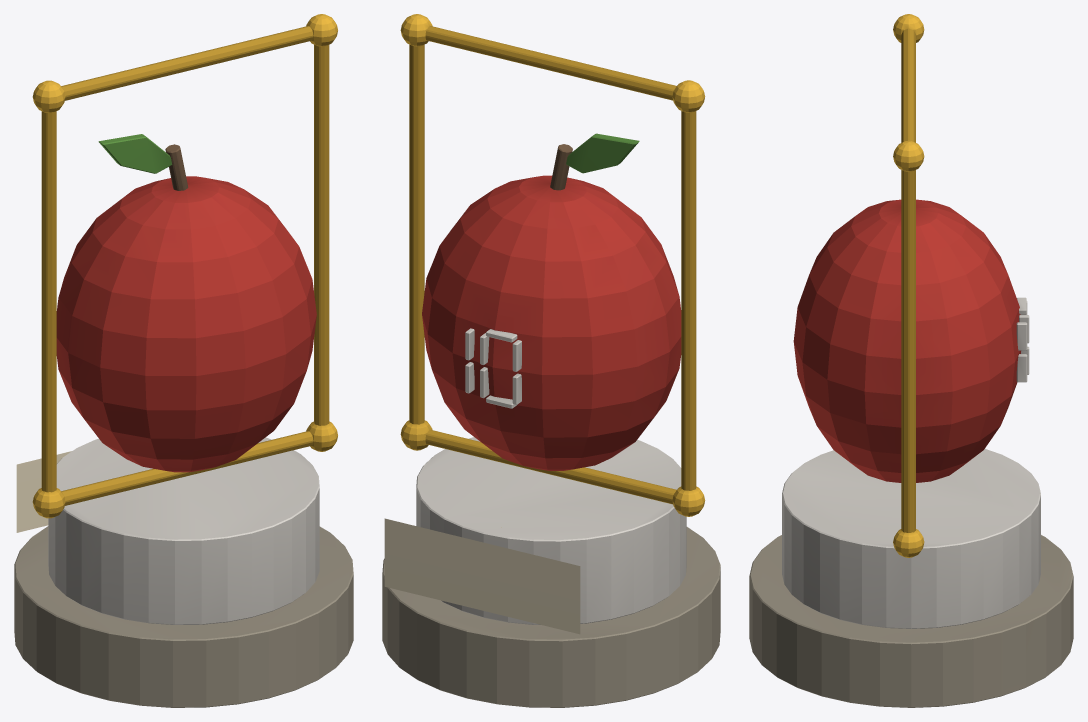
File: trophy_apple.glb
3 renders of one model, left to right at view 1: azimuth 30°, elevation 25°; view 2: azimuth 150°, elevation 25°; view 3: azimuth 270°, elevation 25°, orthographic. The views are drawn at different scales.
Parts seen in each view (by area): view 1: symbol, common_pedestal, trophy_plate; view 2: symbol, common_pedestal, trophy_plate; view 3: common_pedestal, symbol.
Part boxes in pixels (x1,y1,x2,y2): symbol: (32,14,337,518); common_pedestal: (14,437,353,707); trophy_plate: (16,451,71,532); symbol: (400,14,705,516); common_pedestal: (382,437,720,707); trophy_plate: (384,518,580,634); common_pedestal: (749,449,1073,707); symbol: (793,14,1029,557).
Bounding box in the file's own units: 0.92 × 1.72 × 0.9.
